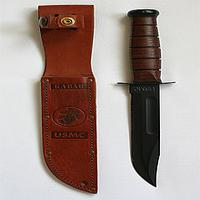knife: (117, 3, 168, 189)
